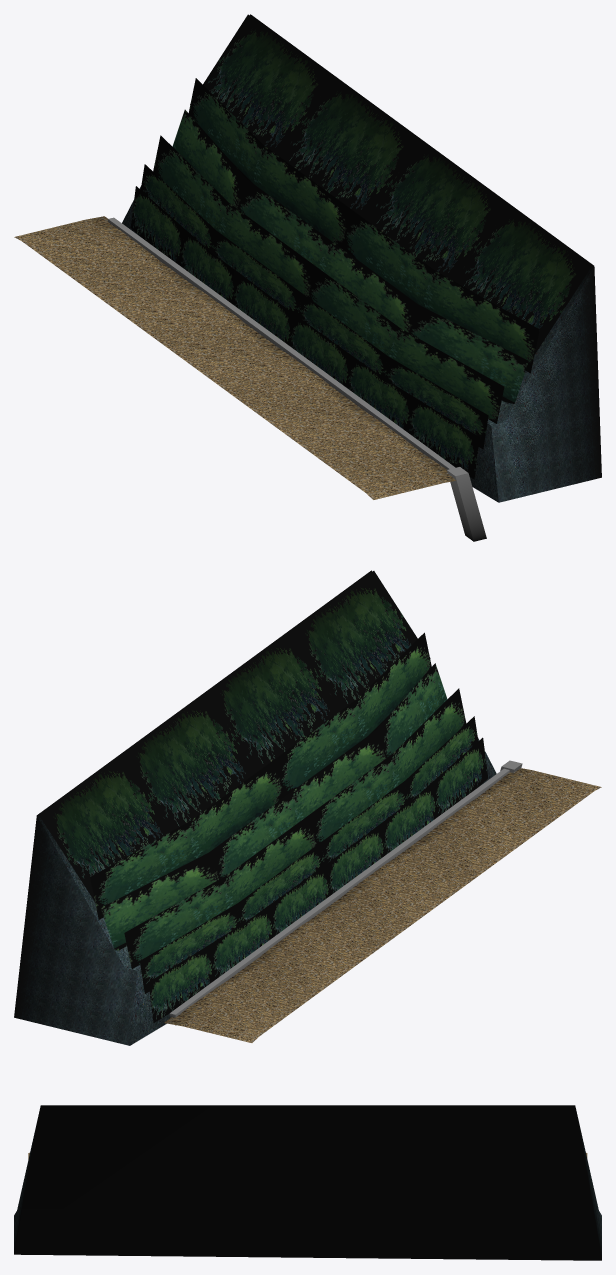
Rendered from KEISIN_L00.glb.
3 renders of one model, top to bottom at view 1: azimuth 30°, elevation 25°; view 2: azimuth 150°, elevation 25°; view 3: azimuth 270°, elevation 25°, orthographic. The views are drawn at different scales.
Parts seen in each view (by area): view 1: Model; view 2: Model; view 3: Model.
Part boxes in pixels (bbox=[...]): Model: bbox=[14, 14, 601, 541]; Model: bbox=[14, 570, 601, 1045]; Model: bbox=[14, 1105, 601, 1260].
Bounding box in the file's own units: 39.47 × 38.35 × 110.
5 materials, 5 textured.
